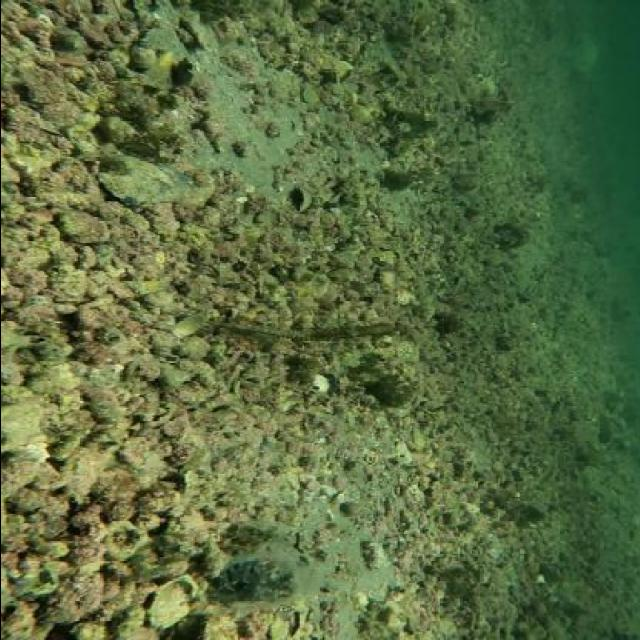Guttu: (268, 318, 402, 348)
